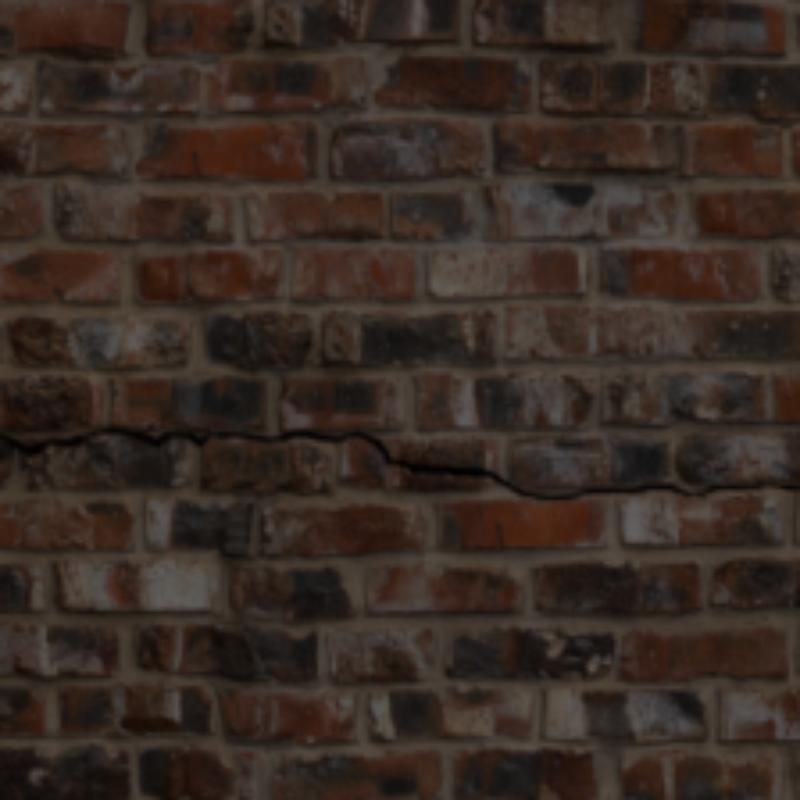crack: (321, 432, 796, 496), (0, 429, 282, 454)
